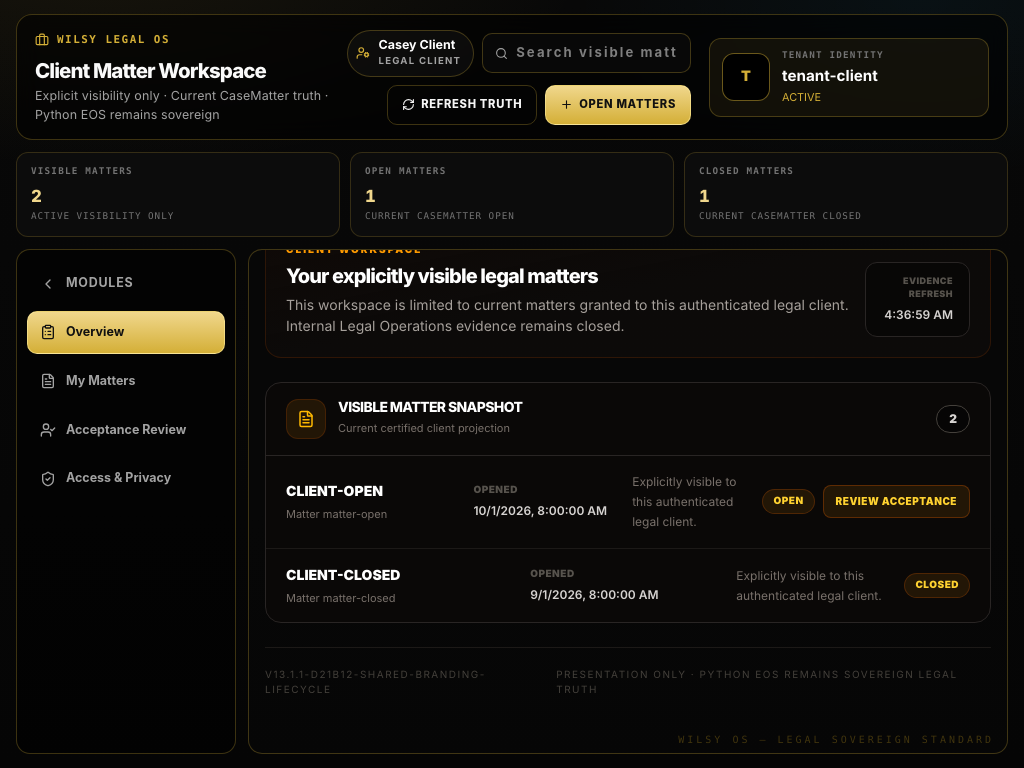
Test: D20 Legal role experience matrix › allows acceptance review only from an OPEN visible matter and records only explicit confirmation
(page scrolled)
Check: the text "CLIENT-OPEN" is shown, box [286,483,383,500]
Click the button with aria-label "Review acceptance for CLIENT-OPEN" at (896, 502), box [823,485,970,518]
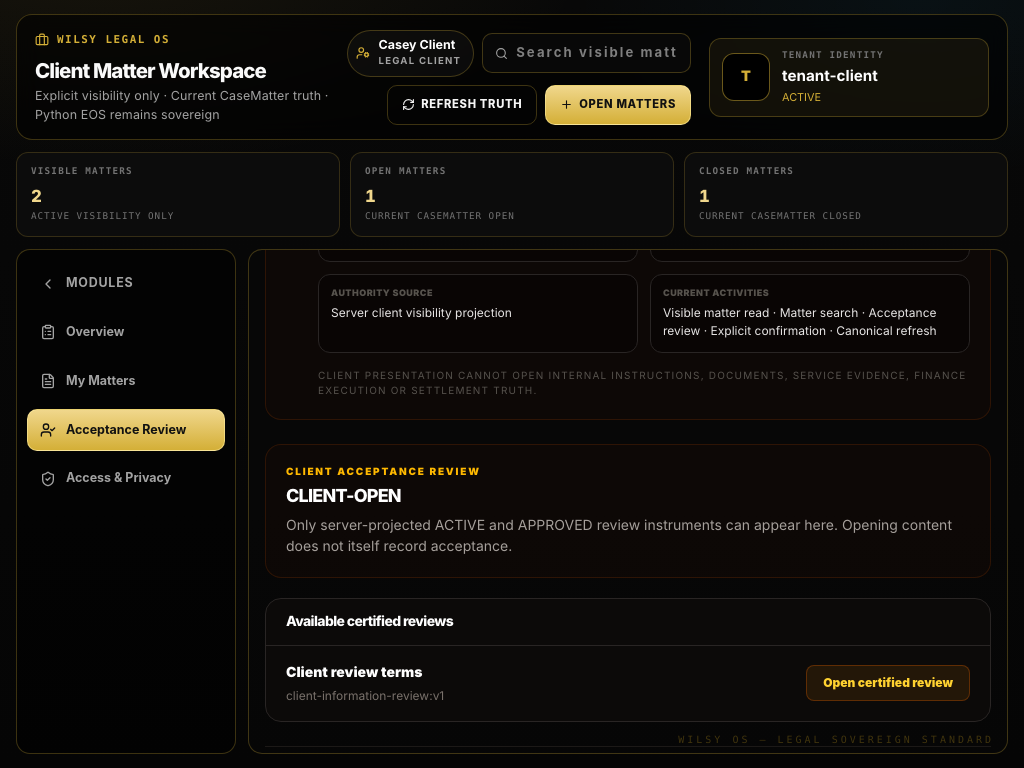
Check: the heading "Available certified reviews" is shown, box [286,613,453,630]
Click the button "Open certified review" at (888, 684), box [806,666,970,702]
(page scrolled)
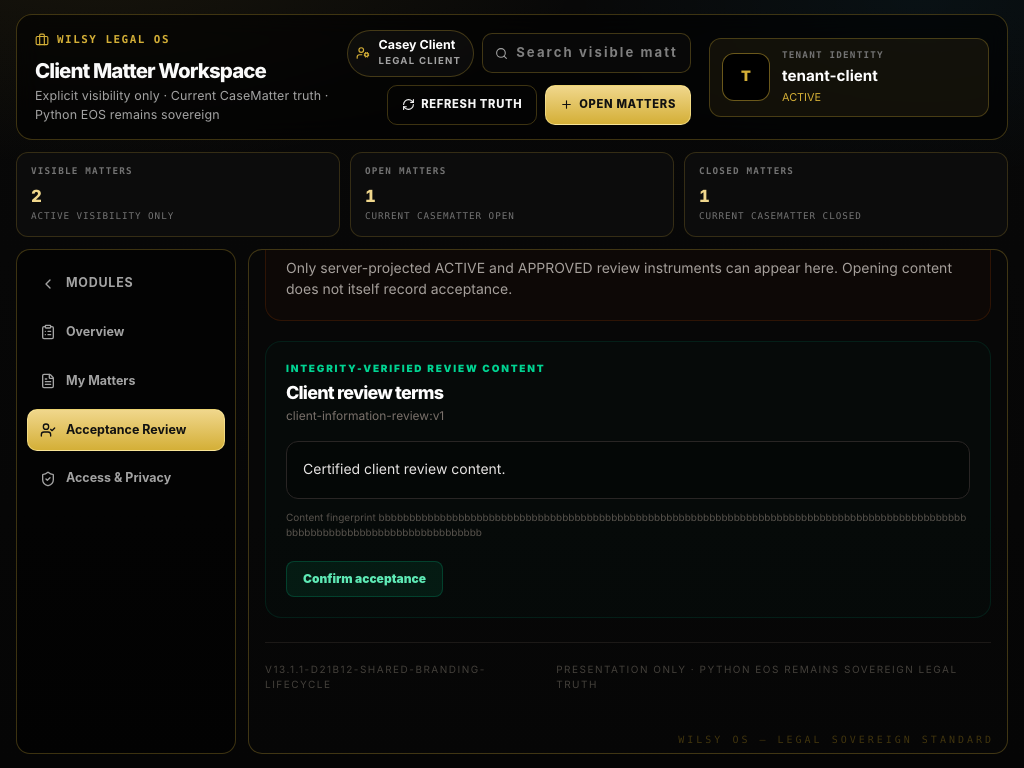
Check: the text "Certified client review content." is shown, box [286,441,970,499]
Click the button "Confirm acceptance" at (364, 579), box [286,561,443,597]
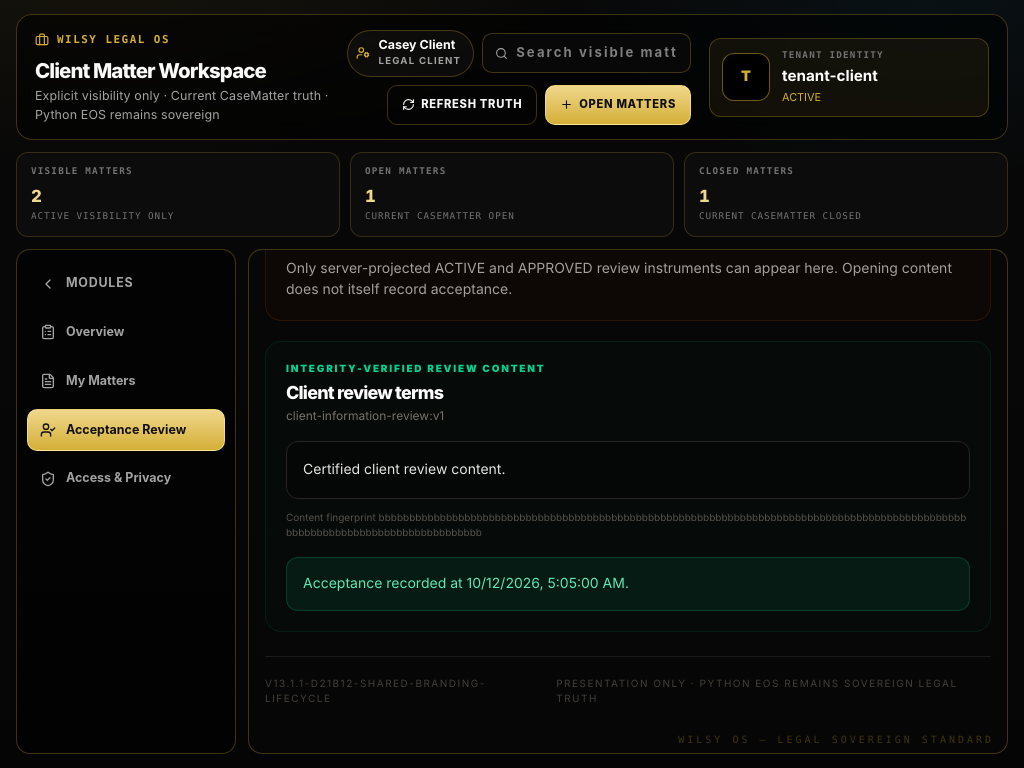
Check: the text "Acceptance recorded at 10/12/2026, 5:05:00 AM." is shown, box [286,557,970,611]
